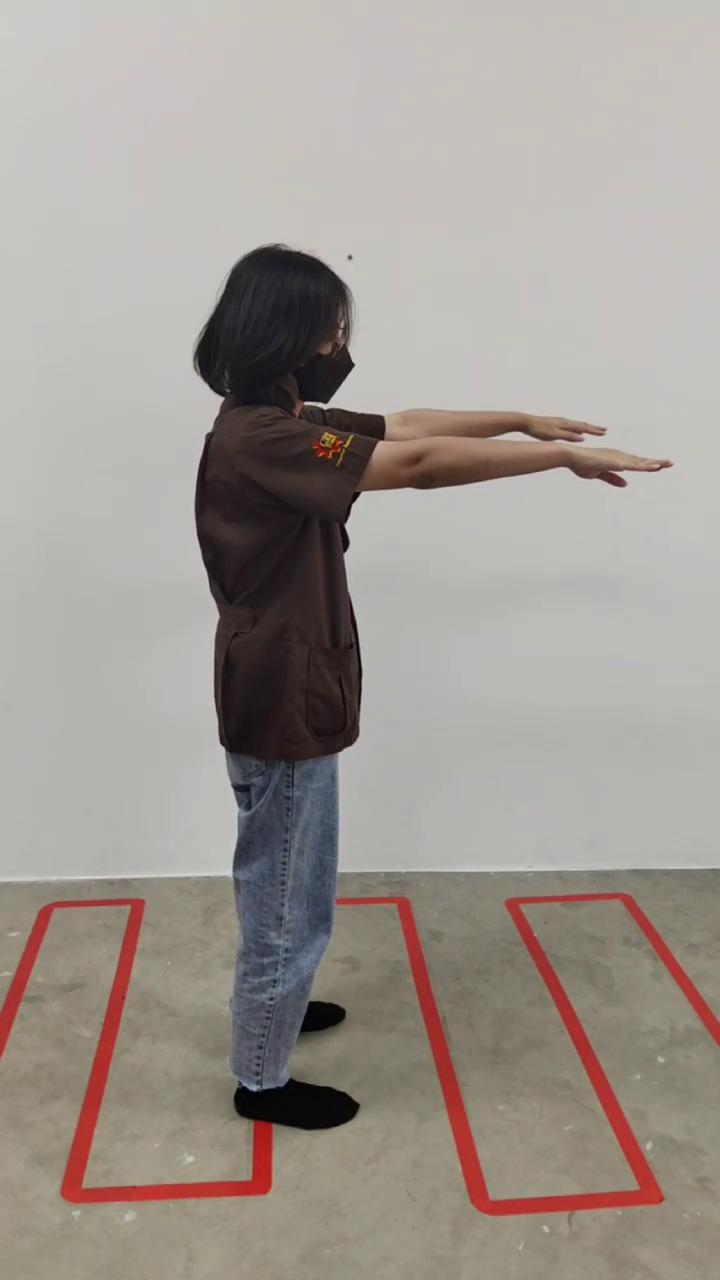squat up: (193, 247, 666, 1130)
